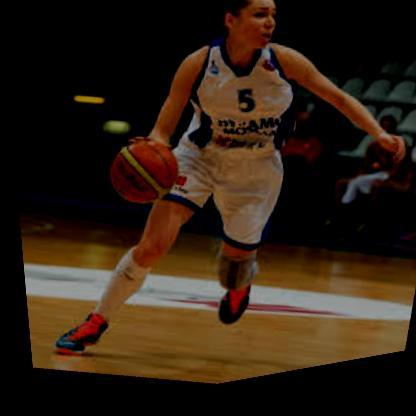basketball: (96, 133, 181, 219)
